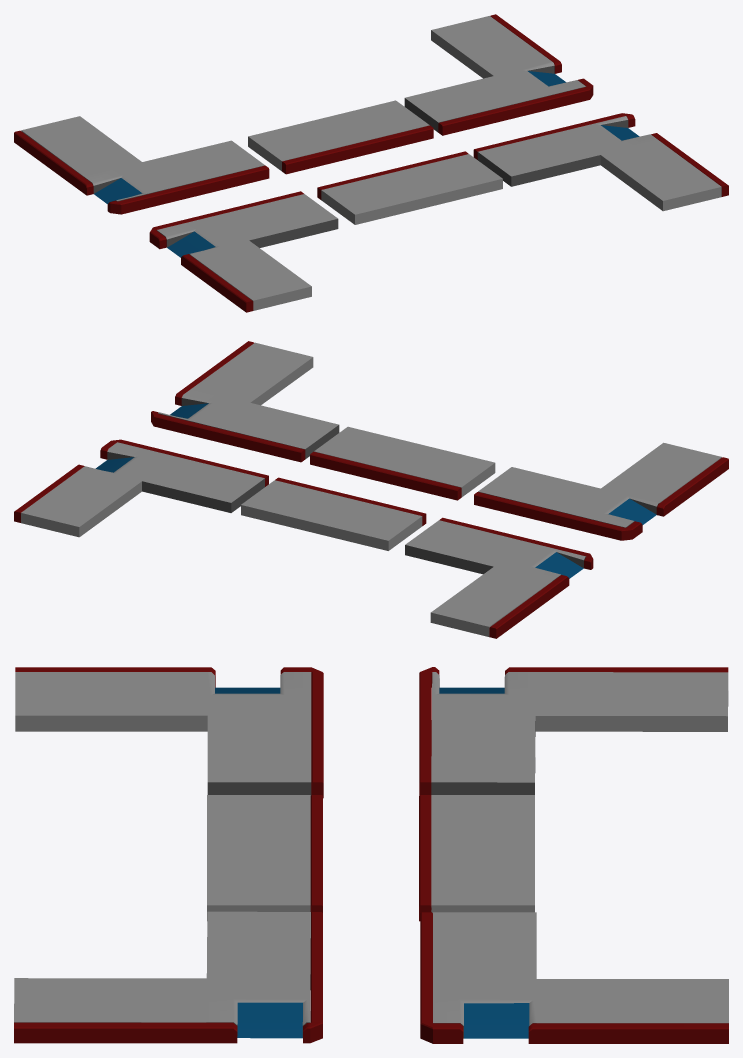
Rendered from Banquetas2.fbx.
3 renders of one model, top to bottom at view 1: azimuth 30°, elevation 25°; view 2: azimuth 150°, elevation 25°; view 3: azimuth 270°, elevation 25°, orthographic. The views are drawn at different scales.
Parts seen in each view (by area): view 1: pasted__polySurface220, pasted__polySurface210, pasted__polySurface205, pasted__polySurface218, pasted__polySurface217, pasted__polySurface142; view 2: pasted__polySurface210, pasted__polySurface220, pasted__polySurface218, pasted__polySurface205, pasted__polySurface142, pasted__polySurface217; view 3: pasted__polySurface205, pasted__polySurface218, pasted__polySurface220, pasted__polySurface210, pasted__polySurface217, pasted__polySurface142.
Part boxes in pixels (left/top/right/bottom): pasted__polySurface220: left=14, top=116, right=269, bottom=214; pasted__polySurface210: left=149, top=191, right=338, bottom=312; pasted__polySurface205: left=473, top=113, right=728, bottom=211; pasted__polySurface218: left=404, top=14, right=593, bottom=135; pasted__polySurface217: left=248, top=100, right=433, bottom=174; pasted__polySurface142: left=317, top=151, right=502, bottom=224; pasted__polySurface210: left=474, top=442, right=728, bottom=540; pasted__polySurface220: left=405, top=517, right=593, bottom=638; pasted__polySurface218: left=14, top=439, right=268, bottom=537; pasted__polySurface205: left=151, top=341, right=339, bottom=462; pasted__polySurface142: left=310, top=426, right=495, bottom=500; pasted__polySurface217: left=241, top=477, right=426, bottom=550; pasted__polySurface205: left=14, top=911, right=322, bottom=1043; pasted__polySurface218: left=420, top=912, right=728, bottom=1043; pasted__polySurface220: left=419, top=667, right=728, bottom=795; pasted__polySurface210: left=15, top=667, right=323, bottom=798; pasted__polySurface217: left=419, top=795, right=534, bottom=921; pasted__polySurface142: left=207, top=795, right=322, bottom=920.
Bounding box in the file's own units: 34.26 × 0.7014 × 28.64.
